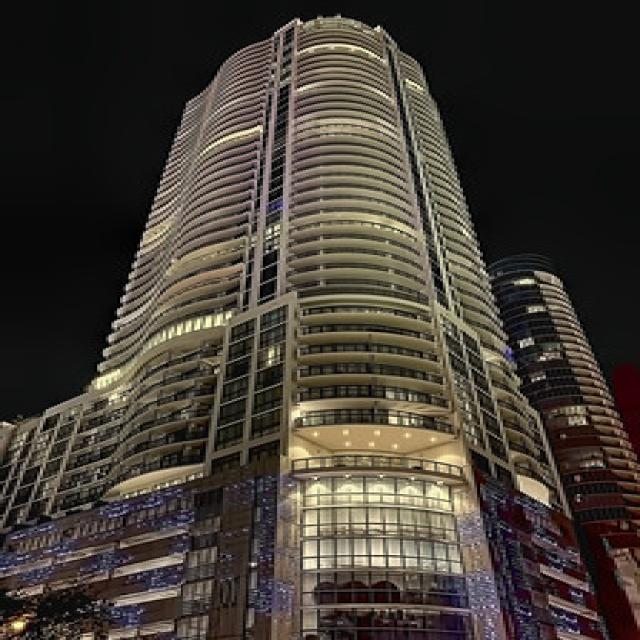building: (27, 12, 624, 638)
